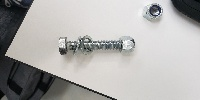FinishedAssembly: (54, 34, 138, 56)
Nut: (138, 1, 166, 26)
